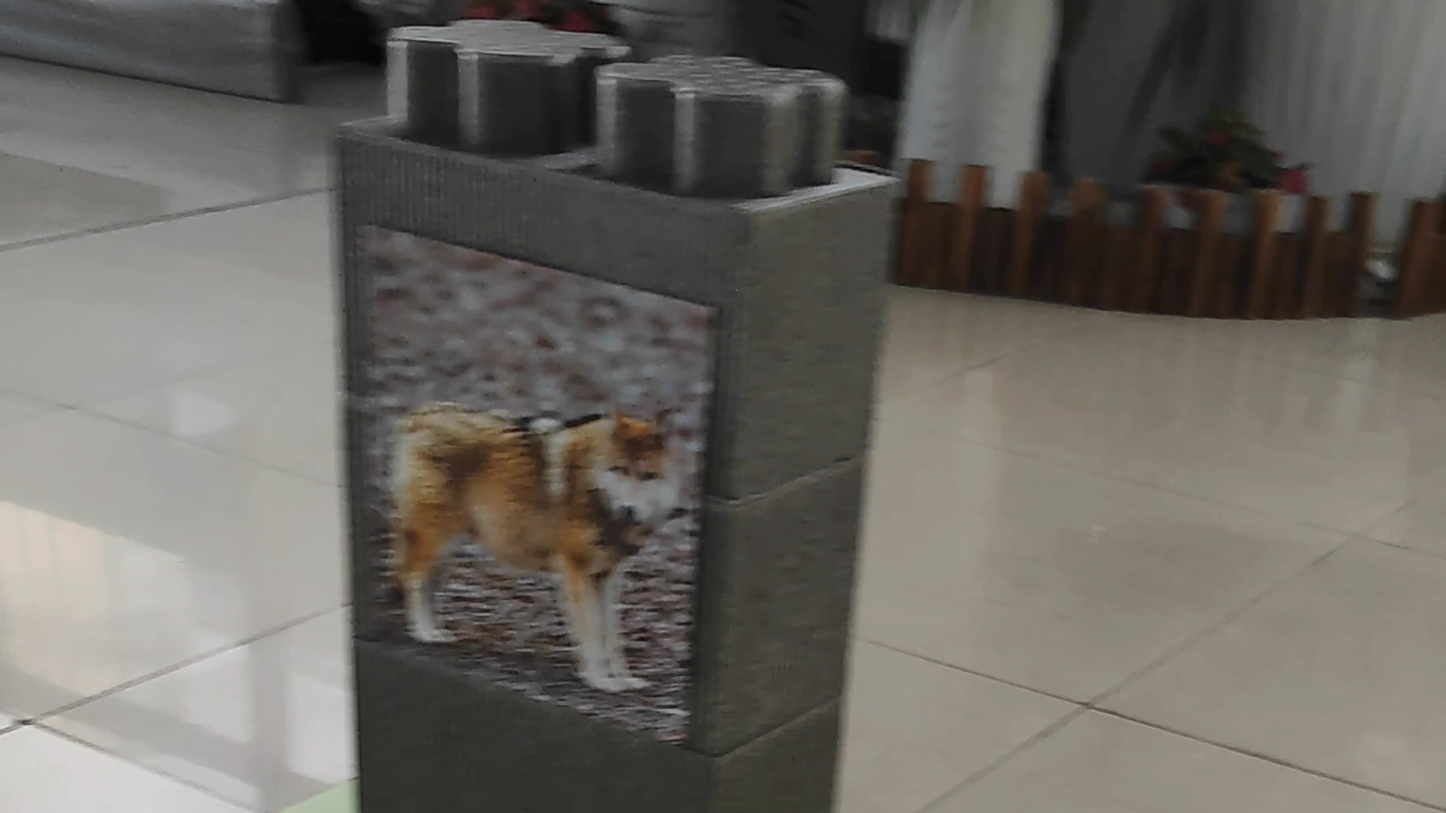wolf: (386, 348, 702, 706)
